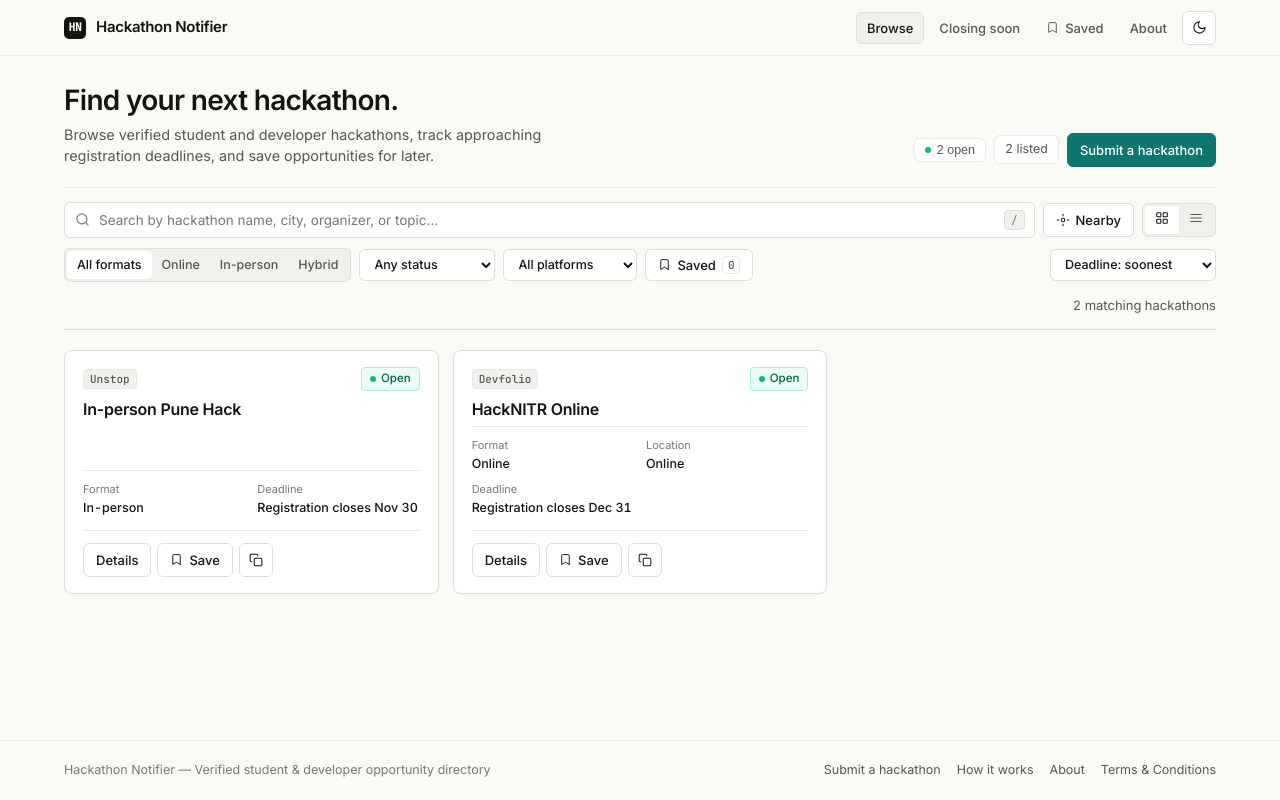
Test: Student discovery experience in App › filters by format when format segment is clicked
Expected: the heading "HackNITR Online" is shown, top-left (472, 399), bottom-right (599, 419)
Click the button "In-person".
click(249, 265)  # box top-left (210, 251), bottom-right (288, 279)
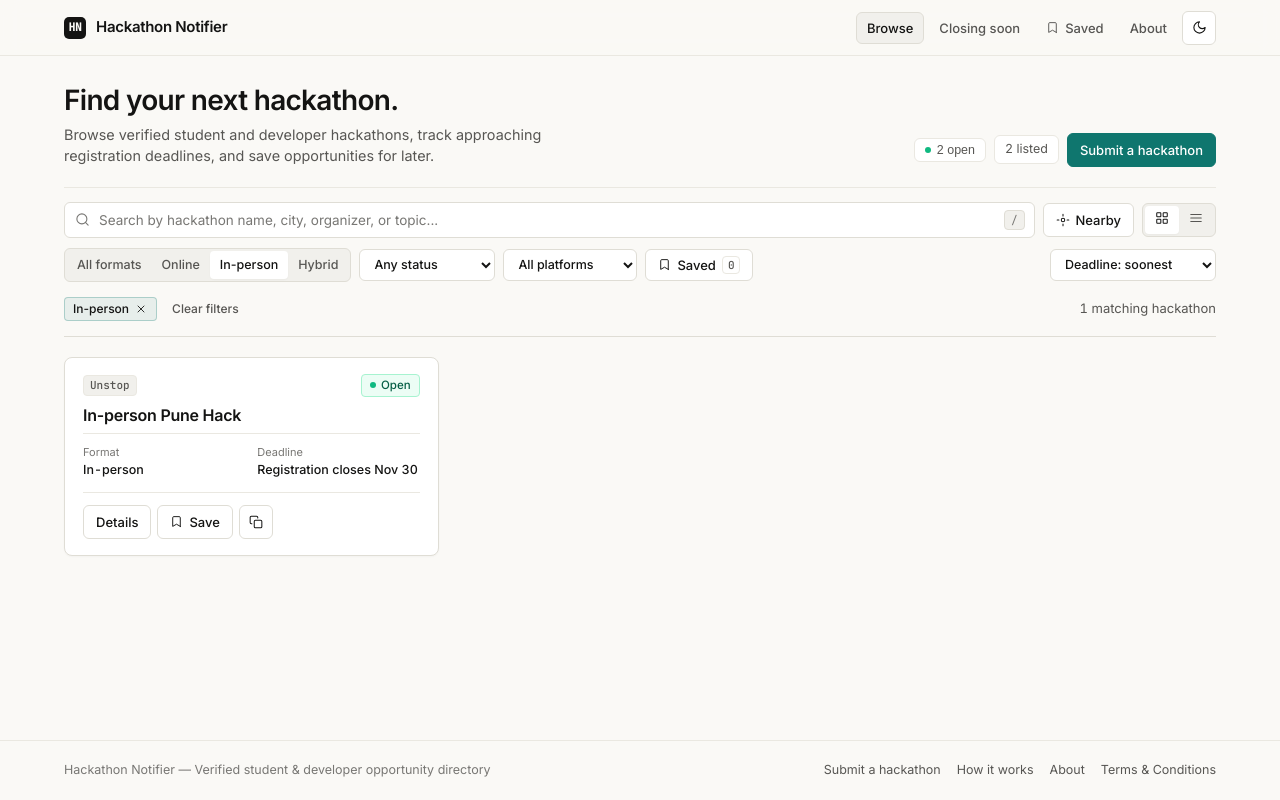
Expected: the heading "In-person Pune Hack" is shown, top-left (83, 405), bottom-right (241, 425)
Result: the heading "HackNITR Online" is gone
